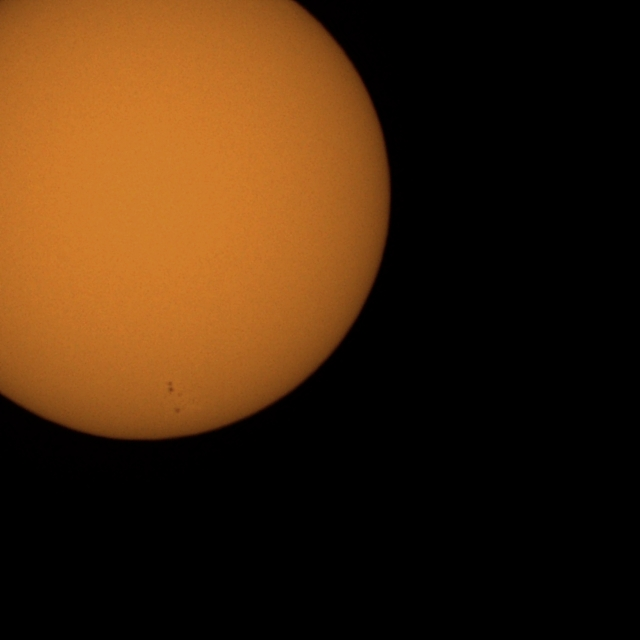sunspot: (166, 379, 196, 416), (166, 380, 181, 400), (166, 380, 176, 394)
